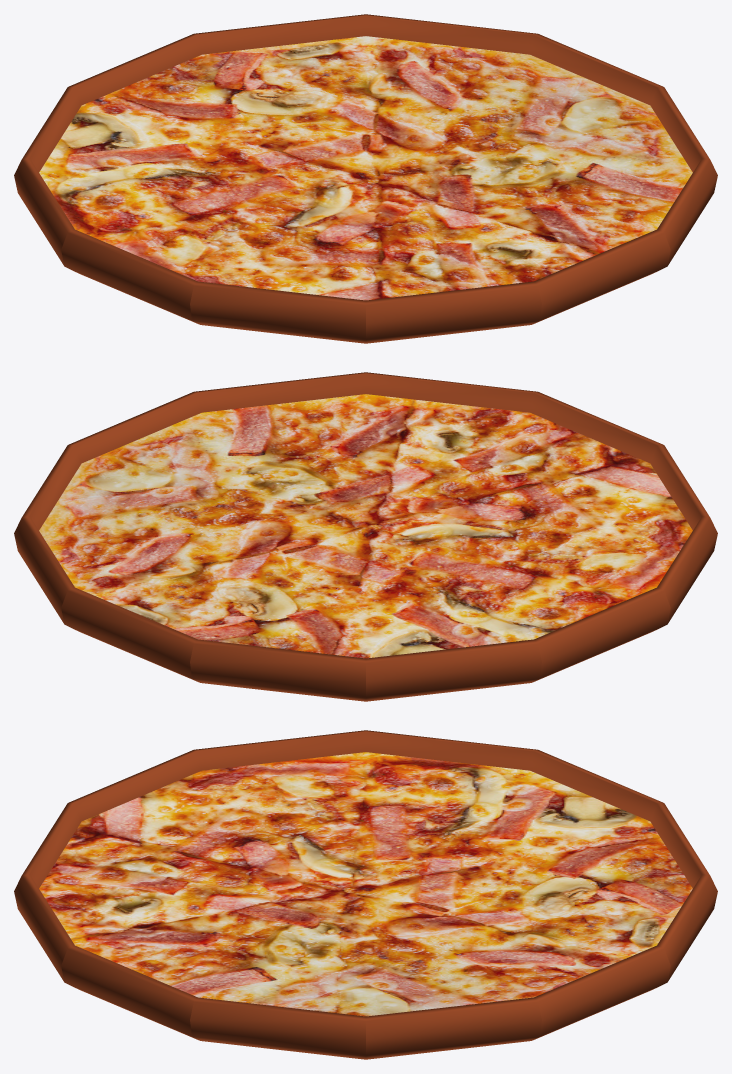
The model's file is Pizza.fbx.
The picture shows the model from 3 angles, top to bottom: view 1: azimuth 30°, elevation 25°; view 2: azimuth 150°, elevation 25°; view 3: azimuth 270°, elevation 25°; orthographic projection.
Parts seen in each view (by area): view 1: Pizza; view 2: Pizza; view 3: Pizza.
Part boxes in pixels (<box>): Pizza: <box>14,14,717,343</box>; Pizza: <box>14,372,717,701</box>; Pizza: <box>14,730,717,1059</box>.
Bounding box in the file's own units: 36.54 × 2.59 × 36.54.
2 materials, 1 textured.
